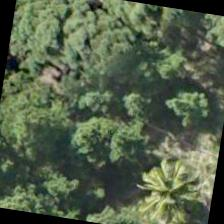Kelapa_Sawit: (124, 145, 219, 223)
